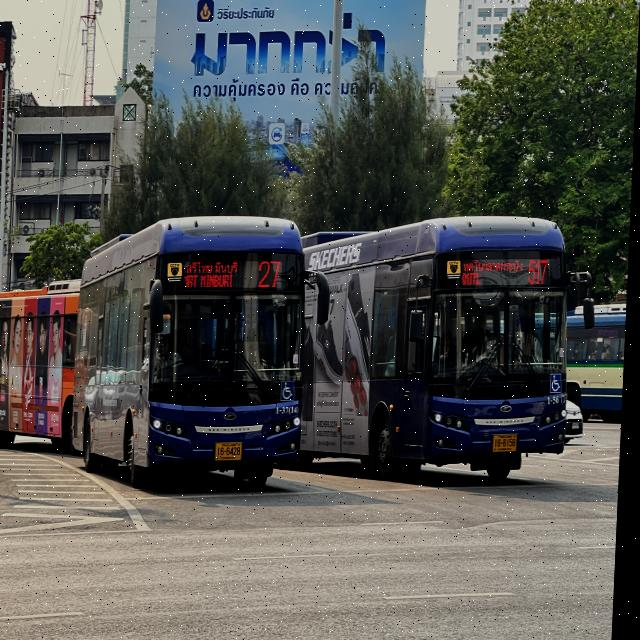BMTA-bus: (0, 282, 83, 450)
Bus Line Number: (257, 255, 287, 291), (528, 255, 554, 286)
Bus Side Number: (549, 392, 572, 406), (278, 406, 303, 414)
Destination Sign: (184, 257, 246, 293), (462, 255, 527, 288)
TSB-Bus: (304, 215, 586, 483), (73, 216, 311, 488)
